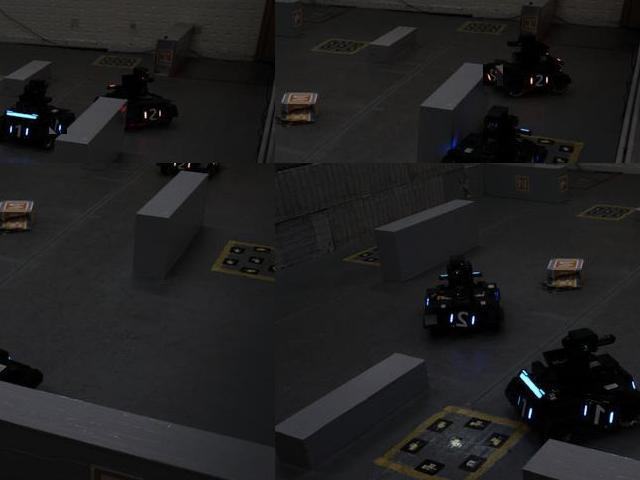armor: (580, 396, 618, 435), (512, 389, 541, 425), (447, 307, 480, 330), (5, 119, 33, 142), (524, 70, 552, 91), (140, 106, 167, 124), (484, 64, 505, 87), (50, 117, 69, 135), (169, 163, 195, 176)
